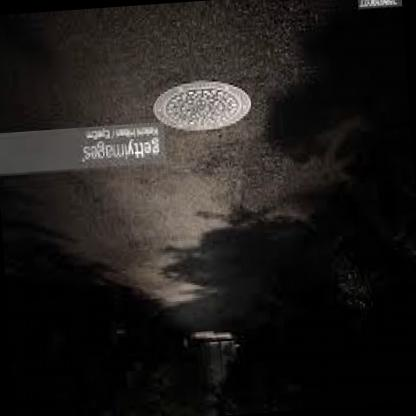manholes: (135, 65, 266, 142)
